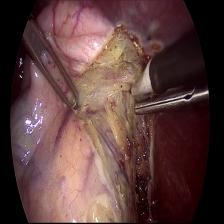Grasper: (16, 6, 85, 129), (131, 82, 201, 124)
Hook: (130, 56, 155, 99)
